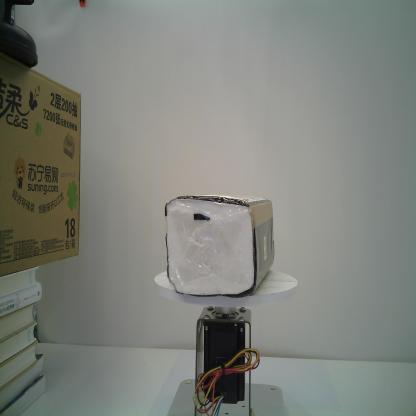Tissue: (164, 192, 275, 298)
